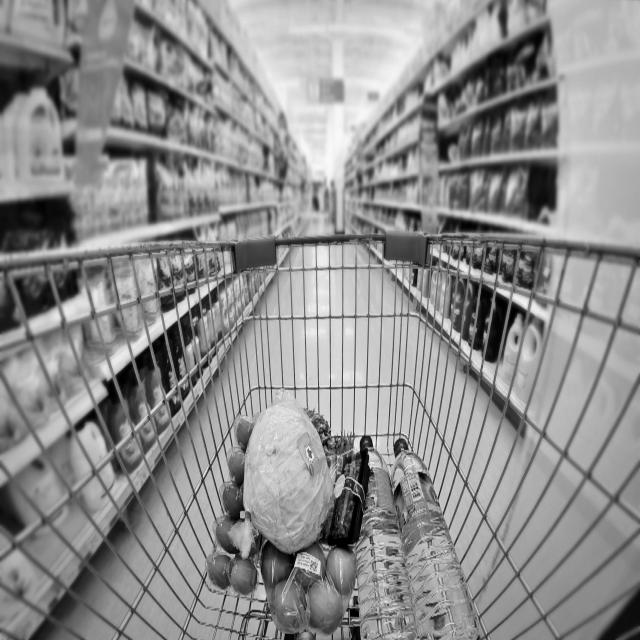bap cai: (240, 404, 335, 544)
tao: (259, 535, 359, 632)
trung: (207, 409, 265, 594)
